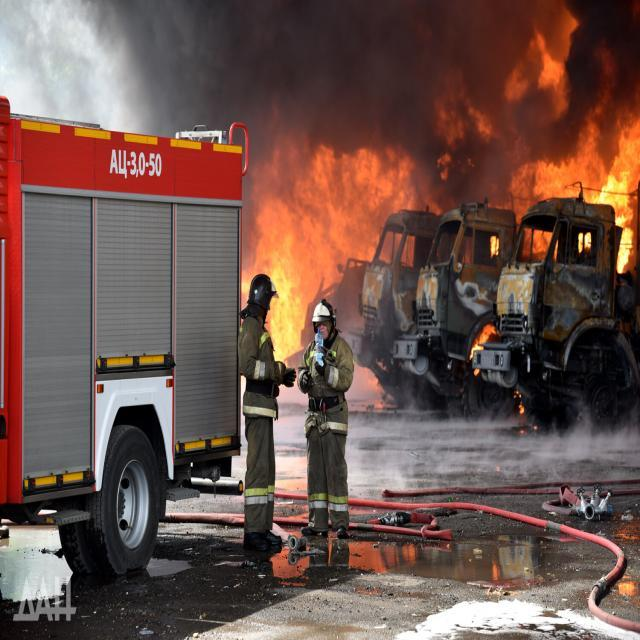Fire: (253, 152, 414, 360), (516, 111, 640, 274), (469, 324, 496, 358), (490, 234, 500, 258)
Smoke: (87, 4, 640, 237), (350, 418, 640, 496)
